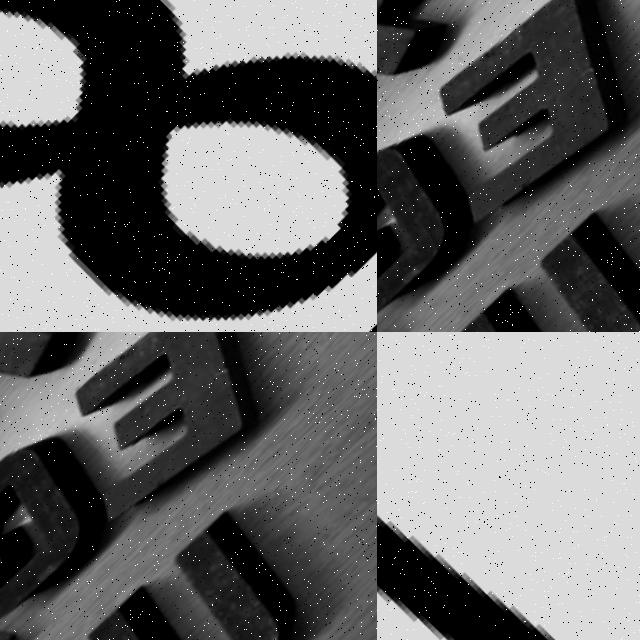8: (0, 0, 377, 332)
E: (389, 0, 640, 242), (31, 332, 319, 535)
G: (0, 413, 138, 640), (377, 126, 487, 330)
I: (377, 511, 569, 640)
K: (377, 0, 531, 138), (0, 332, 168, 432)
U: (57, 485, 345, 640), (427, 188, 640, 332)
